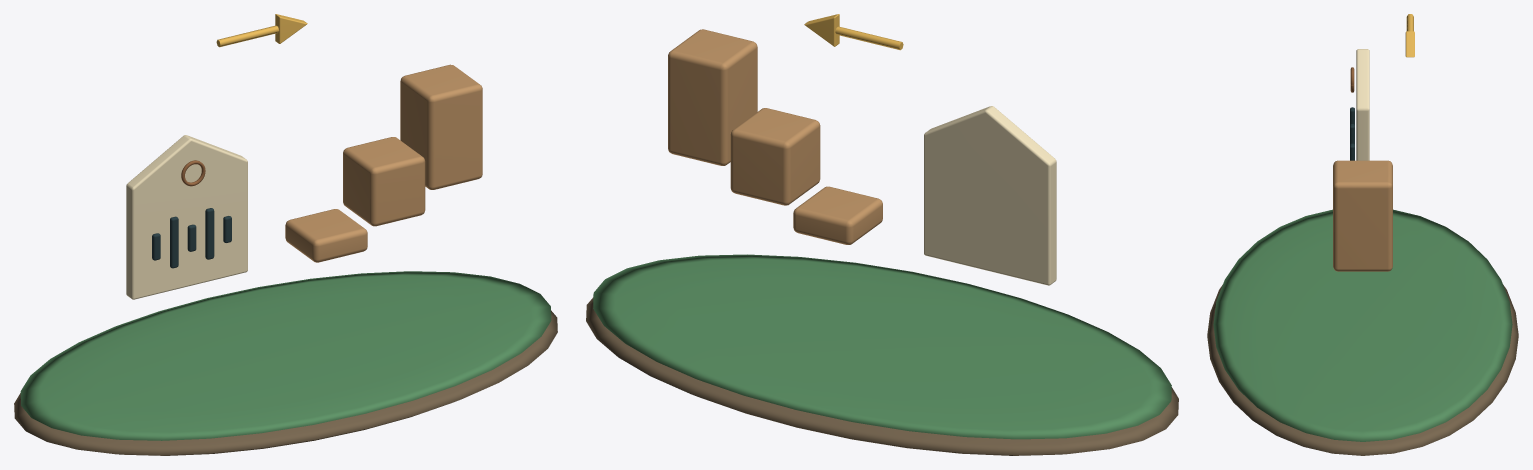
The model's file is complete-third-that-next-turn.glb.
The picture shows the model from 3 angles, left to right: view 1: azimuth 30°, elevation 25°; view 2: azimuth 150°, elevation 25°; view 3: azimuth 270°, elevation 25°; orthographic projection. The views are drawn at different scales.
Parts seen in each view (by area): view 1: complete-third-that-next-turn_surface_01, complete-third-that-next-turn_surface_05, complete-third-that-next-turn_surface_02, complete-third-that-next-turn_surface_00, complete-third-that-next-turn_surface_04, complete-third-that-next-turn_surface_06; view 2: complete-third-that-next-turn_surface_01, complete-third-that-next-turn_surface_05, complete-third-that-next-turn_surface_02, complete-third-that-next-turn_surface_00, complete-third-that-next-turn_surface_06; view 3: complete-third-that-next-turn_surface_01, complete-third-that-next-turn_surface_05, complete-third-that-next-turn_surface_00, complete-third-that-next-turn_surface_02, complete-third-that-next-turn_surface_06.
Part boxes in pixels (x1,y1,x2,y2): complete-third-that-next-turn_surface_01: (20,271,551,440); complete-third-that-next-turn_surface_05: (285,64,482,262); complete-third-that-next-turn_surface_02: (126,135,247,299); complete-third-that-next-turn_surface_00: (14,310,557,455); complete-third-that-next-turn_surface_04: (152,208,231,268); complete-third-that-next-turn_surface_06: (216,14,307,47); complete-third-that-next-turn_surface_01: (593,254,1171,439); complete-third-that-next-turn_surface_05: (668,29,882,244); complete-third-that-next-turn_surface_02: (924,106,1056,285); complete-third-that-next-turn_surface_00: (586,297,1178,455); complete-third-that-next-turn_surface_06: (804,14,903,50); complete-third-that-next-turn_surface_01: (1213,209,1512,441); complete-third-that-next-turn_surface_05: (1333,160,1392,271); complete-third-that-next-turn_surface_00: (1207,285,1518,455); complete-third-that-next-turn_surface_02: (1356,49,1369,160); complete-third-that-next-turn_surface_06: (1405,14,1414,57).
Bounding box in the file's own units: 4.56 × 2.89 × 2.5.
